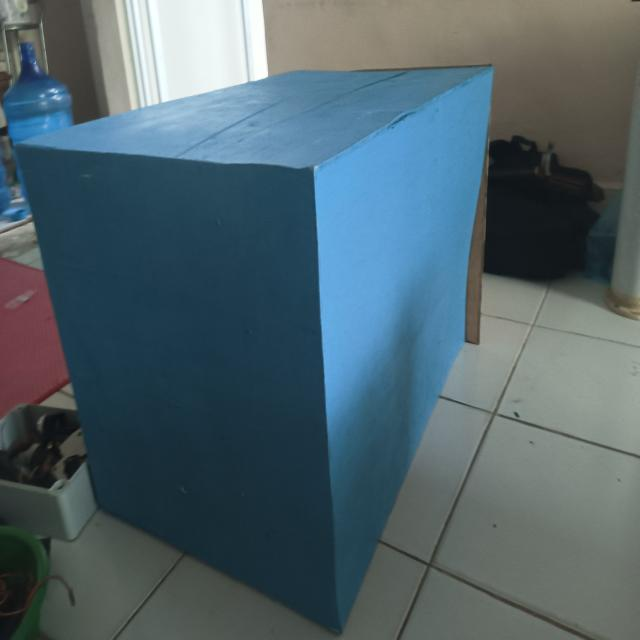blue_box: (0, 22, 519, 640)
